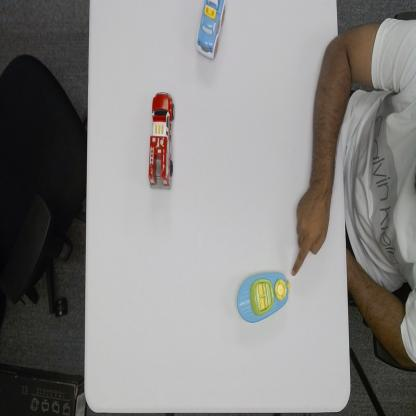Arm: (309, 32, 343, 189)
Boat: (235, 270, 290, 324)
Car: (194, 0, 227, 62)
Firetruck: (148, 89, 176, 193)
Hand: (292, 187, 332, 279)
